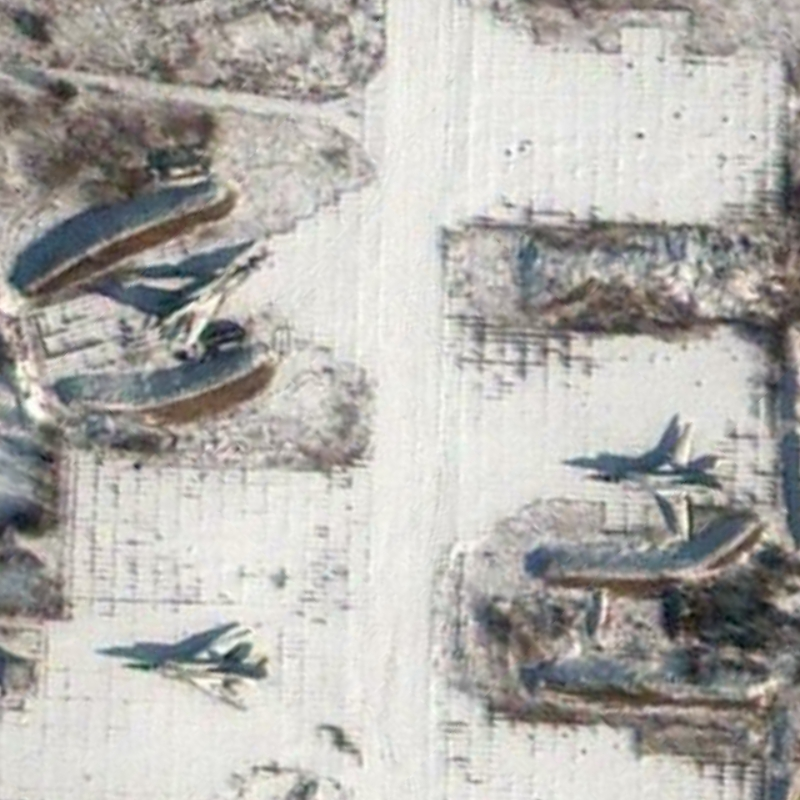A12: (583, 421, 726, 544), (134, 245, 282, 356), (125, 620, 273, 715)
